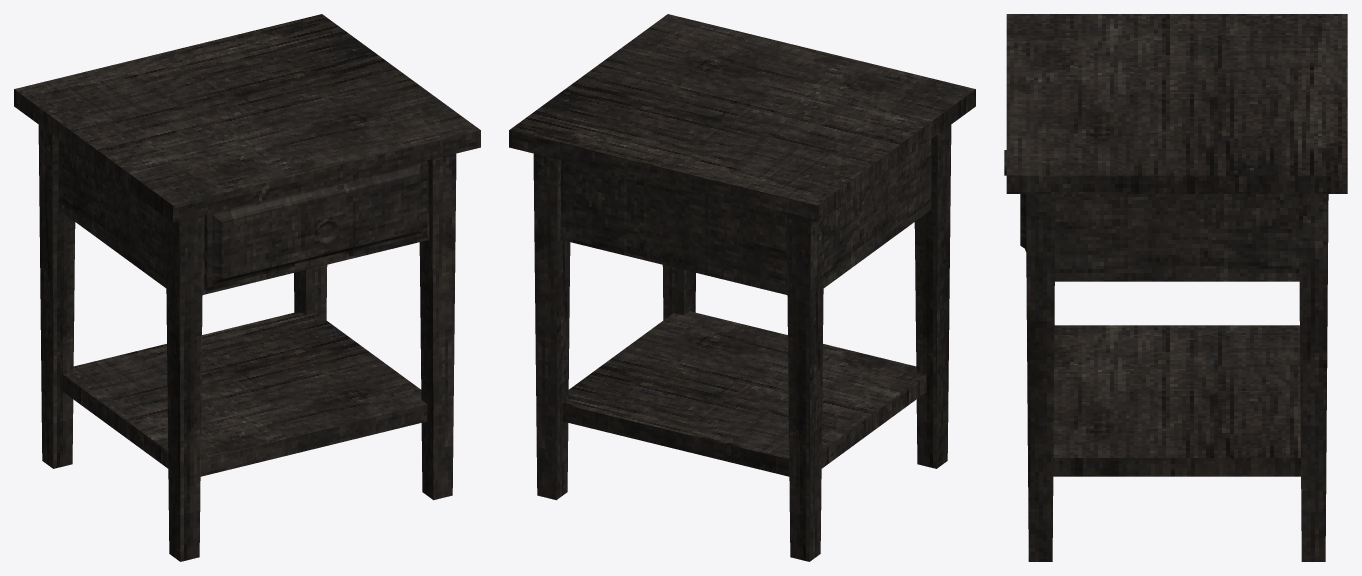
File: bedside_table_1.glb
3 renders of one model, left to right at view 1: azimuth 30°, elevation 25°; view 2: azimuth 150°, elevation 25°; view 3: azimuth 270°, elevation 25°, orthographic. The views are drawn at different scales.
Visible parts, largest first — view 1: bedside_table_1, bedside_table_1_drawer; view 2: bedside_table_1; view 3: bedside_table_1.
Boxes of the visible parts, left/top/right/bottom form: bedside_table_1: left=14, top=14, right=480, bottom=561; bedside_table_1_drawer: left=204, top=160, right=427, bottom=291; bedside_table_1: left=509, top=14, right=975, bottom=561; bedside_table_1: left=1006, top=14, right=1347, bottom=561.
Bounding box in the file's own units: 0.56 × 0.64 × 0.5035.
Materials: 1 (1 with a texture image).
